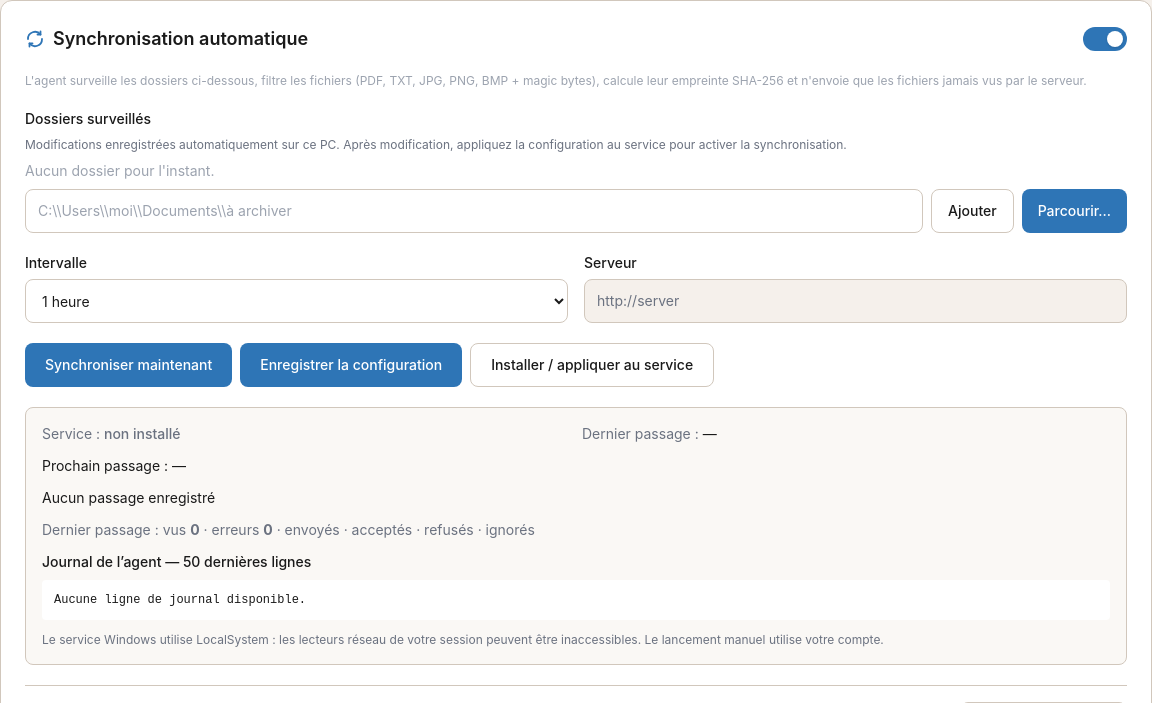
it: keeps the selected folder visible and reports persistence failure
Expected: the text "Aucun dossier pour l'instant." is shown, [25, 162, 214, 179]
Click the button "Parcourir…". click: point(1074, 211)
box: [1022, 189, 1127, 233]
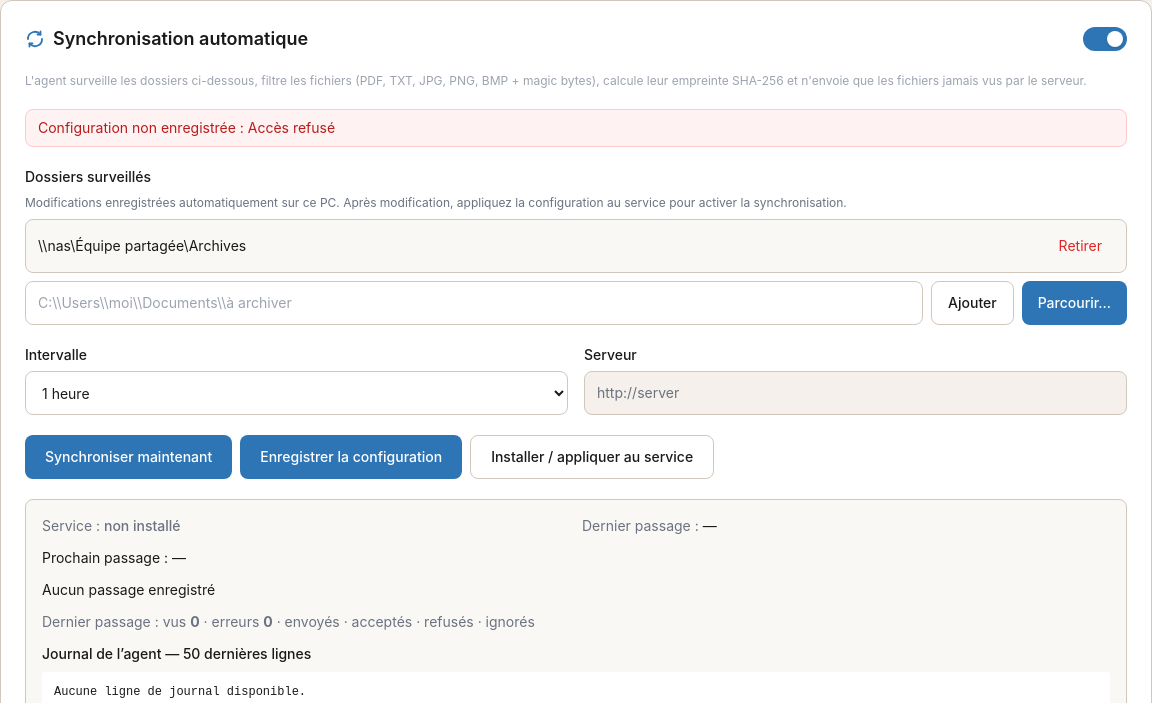
Expected: the text "\\\\nas\\Équipe partagée\\Archives" is shown, [38, 237, 246, 254]
